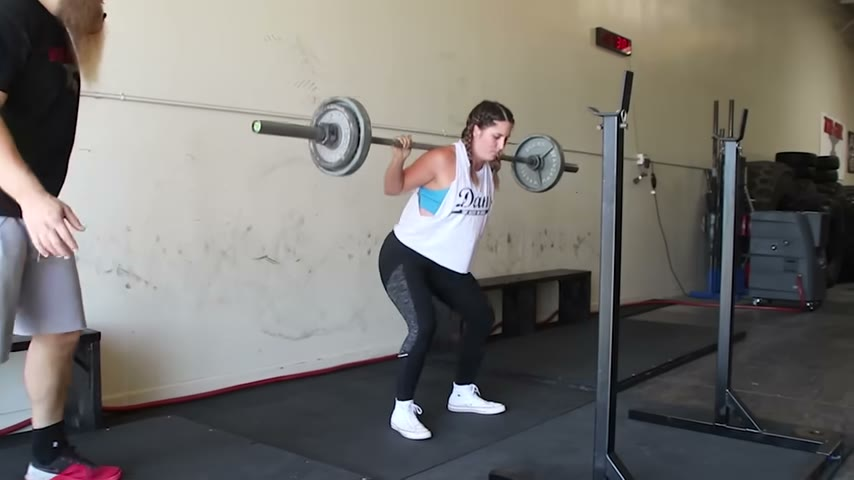barbell_plate_side: (275, 88, 366, 180), (508, 113, 582, 203)
